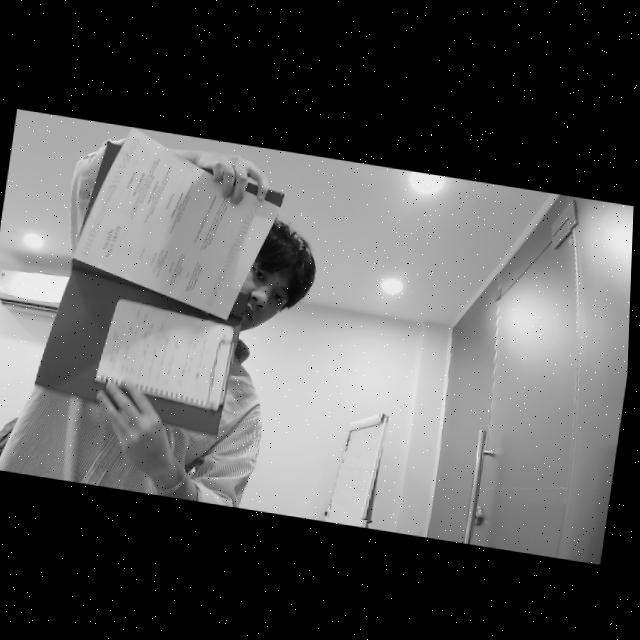document: (71, 127, 281, 320), (95, 298, 234, 410)
face: (225, 244, 313, 341)
